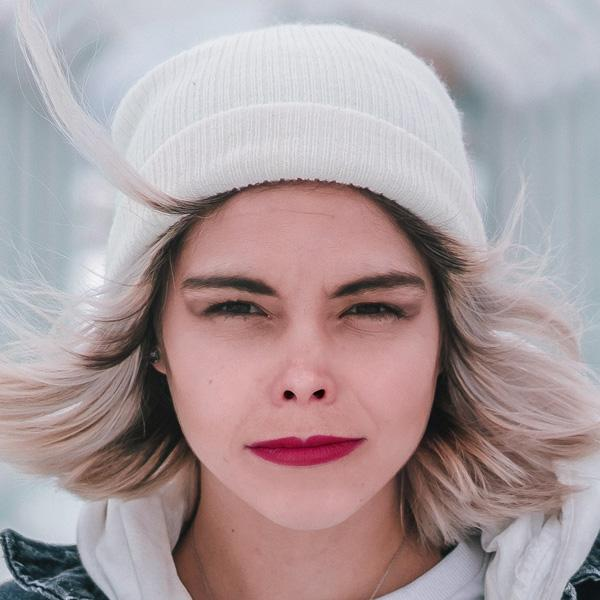Eyes: (329, 292, 420, 340), (189, 289, 281, 336)
